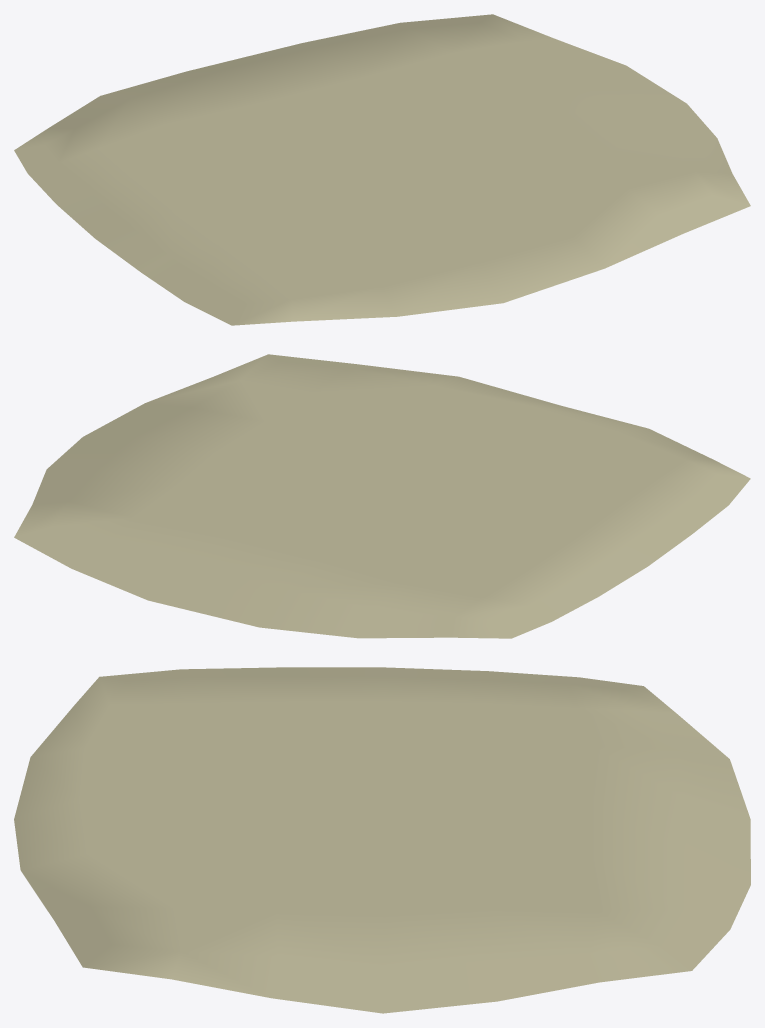
The model's file is field_wheat.fbx.
3 views of the same model, one above another, from view 1: azimuth 30°, elevation 25°; view 2: azimuth 150°, elevation 25°; view 3: azimuth 270°, elevation 25° (orthographic). The views are drawn at different scales.
Visible parts, largest first — view 1: pCube18; view 2: pCube18; view 3: pCube18.
Boxes of the visible parts, bbox=[...] form: pCube18: bbox=[14, 14, 750, 325]; pCube18: bbox=[14, 354, 750, 638]; pCube18: bbox=[14, 667, 750, 1013].
Size of the model in its own units: 69.96 by 2.24 by 64.9.
